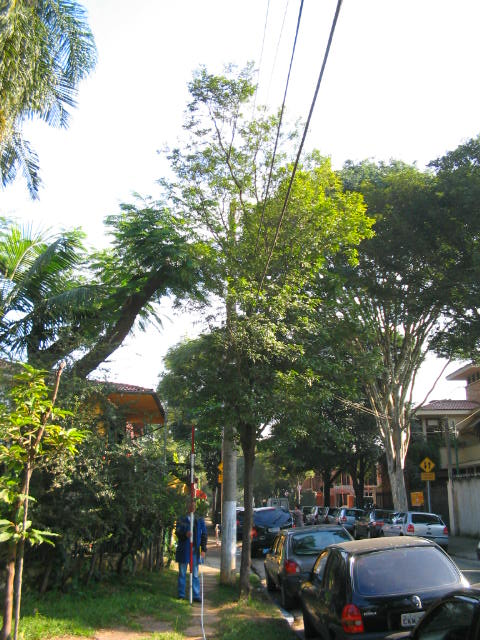crown: (161, 326, 338, 450)
stem: (234, 447, 262, 601)
stick: (185, 422, 200, 604)
tree: (158, 323, 339, 601)
